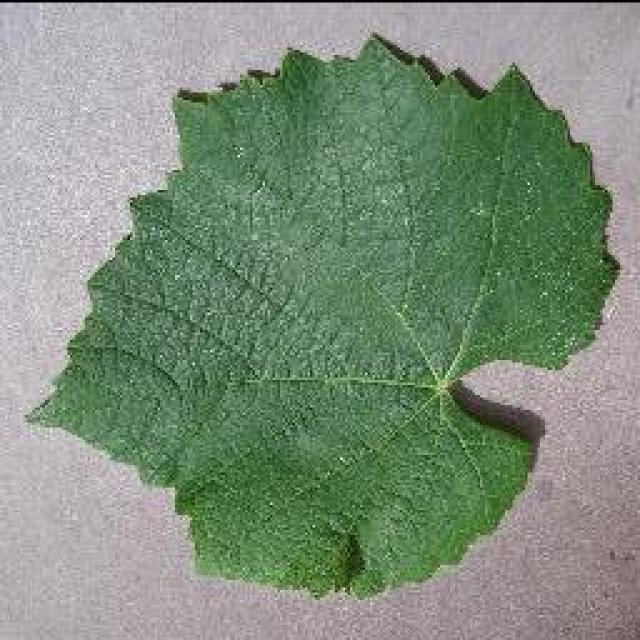Grape___healthy: (16, 26, 626, 607)
